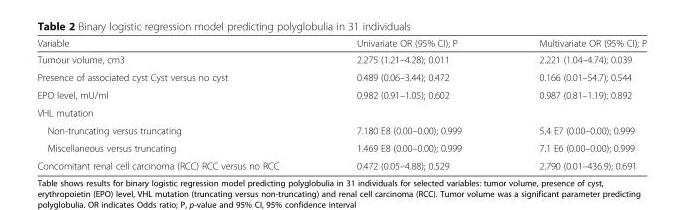table: (36, 36, 646, 171)
table column: (36, 36, 317, 171), (317, 36, 499, 171), (499, 36, 646, 171)
table column header: (36, 36, 646, 50)
table projected row header: (36, 103, 646, 121)
table row: (36, 50, 646, 68), (36, 85, 646, 103), (36, 103, 646, 121), (36, 138, 646, 156), (36, 68, 646, 85), (36, 121, 646, 138), (36, 156, 646, 171), (36, 36, 646, 50)
